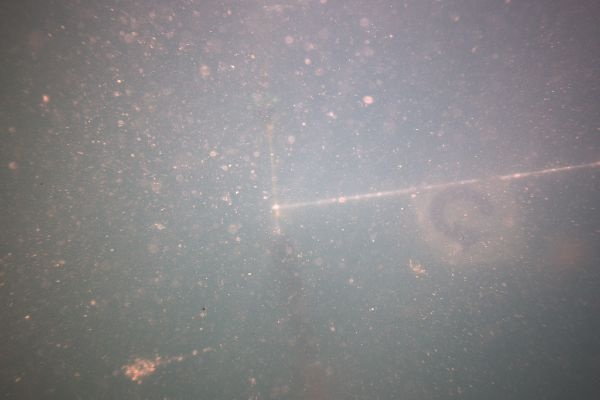gate: (270, 162, 600, 400)
gate_bleue: (415, 180, 522, 268)
